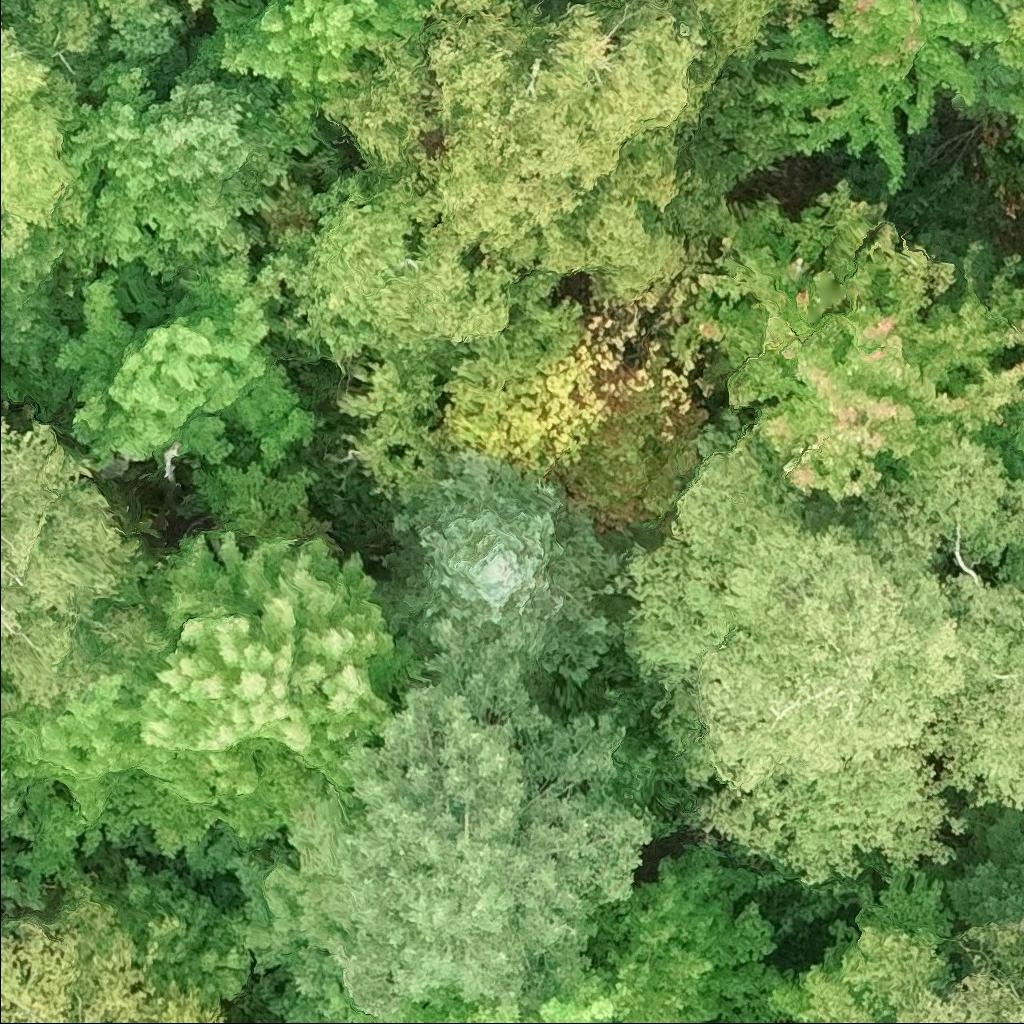crown: (605, 425, 1023, 890), (236, 614, 655, 1023), (139, 521, 427, 817), (396, 839, 789, 1023), (362, 442, 626, 682), (0, 397, 161, 714), (0, 666, 222, 825), (0, 882, 231, 1023), (777, 874, 963, 1023), (913, 798, 1023, 948), (896, 927, 1023, 1023)
